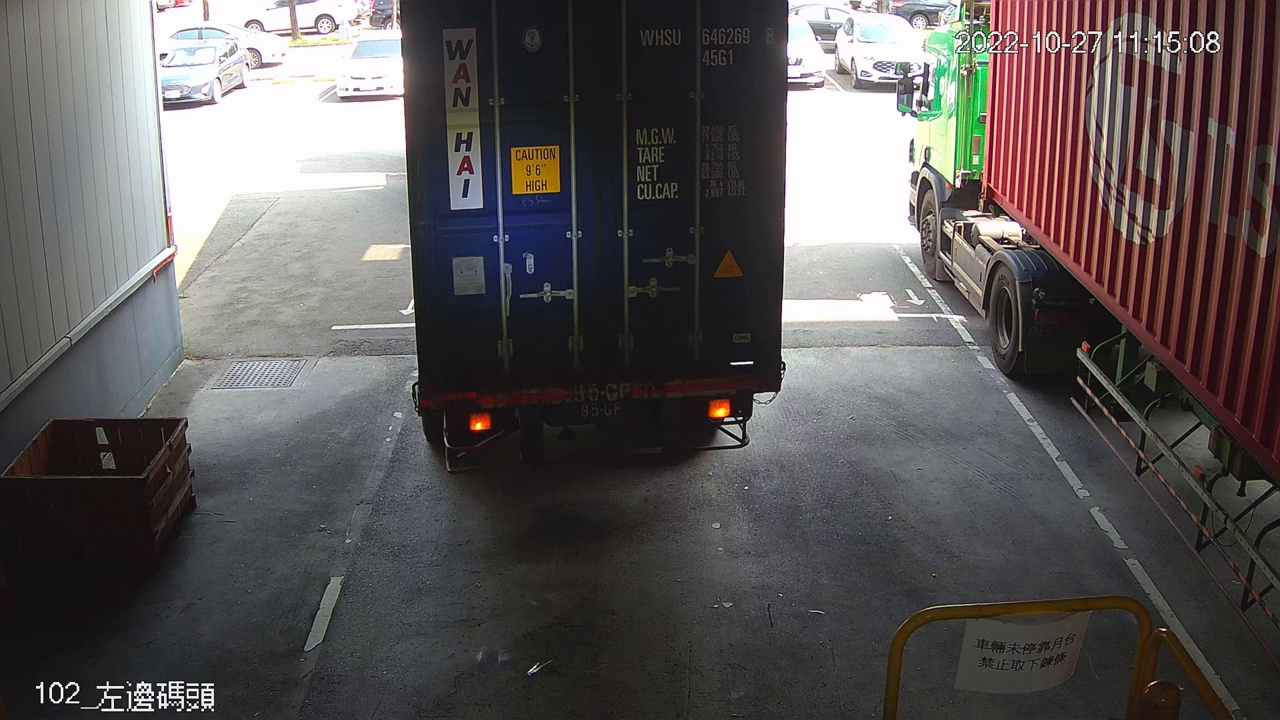container: (633, 21, 781, 72)
